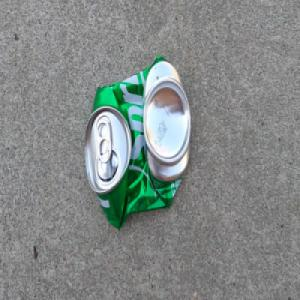SodaCan: (82, 52, 191, 230)
